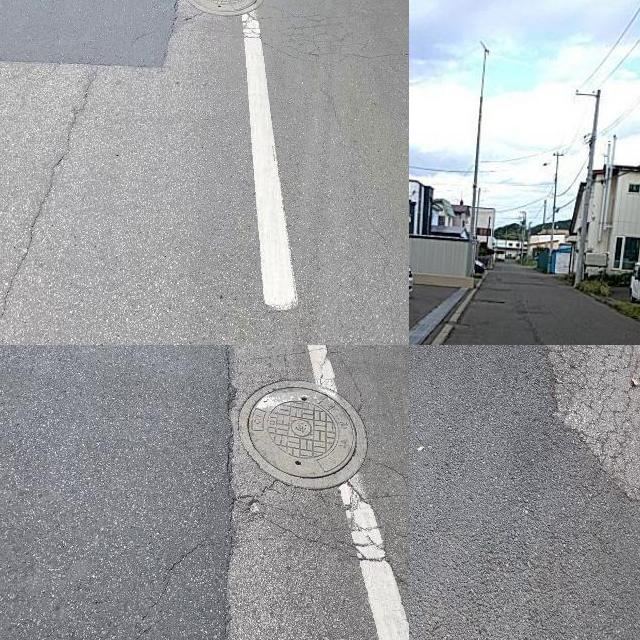Lubang: (244, 381, 365, 490), (190, 0, 258, 13)
Memanjang: (0, 65, 111, 337)
Sambungan: (0, 345, 232, 640), (409, 345, 640, 640), (0, 0, 178, 67)
